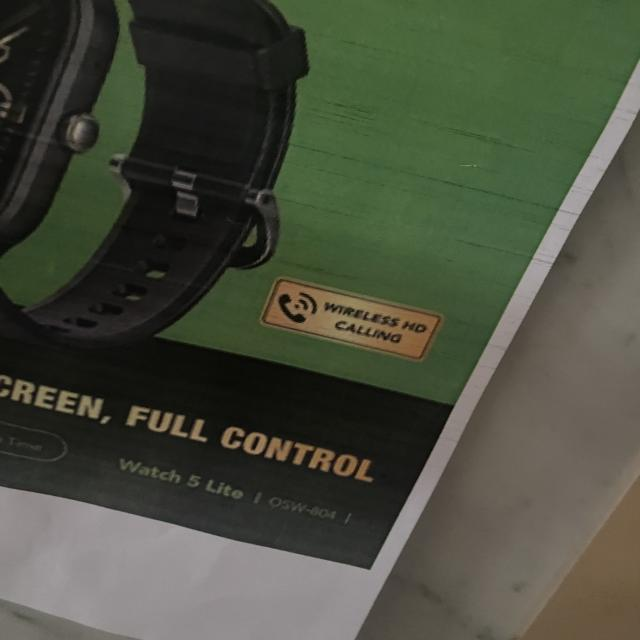Watch 5 Lite OSW-804: (107, 447, 366, 533)
